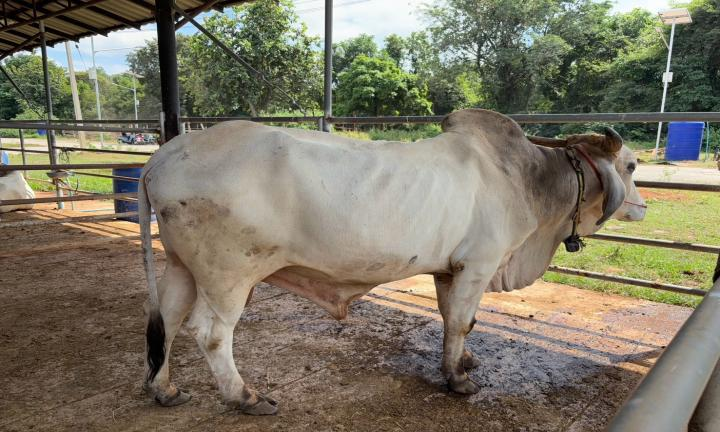Brahman: (138, 109, 645, 414)
